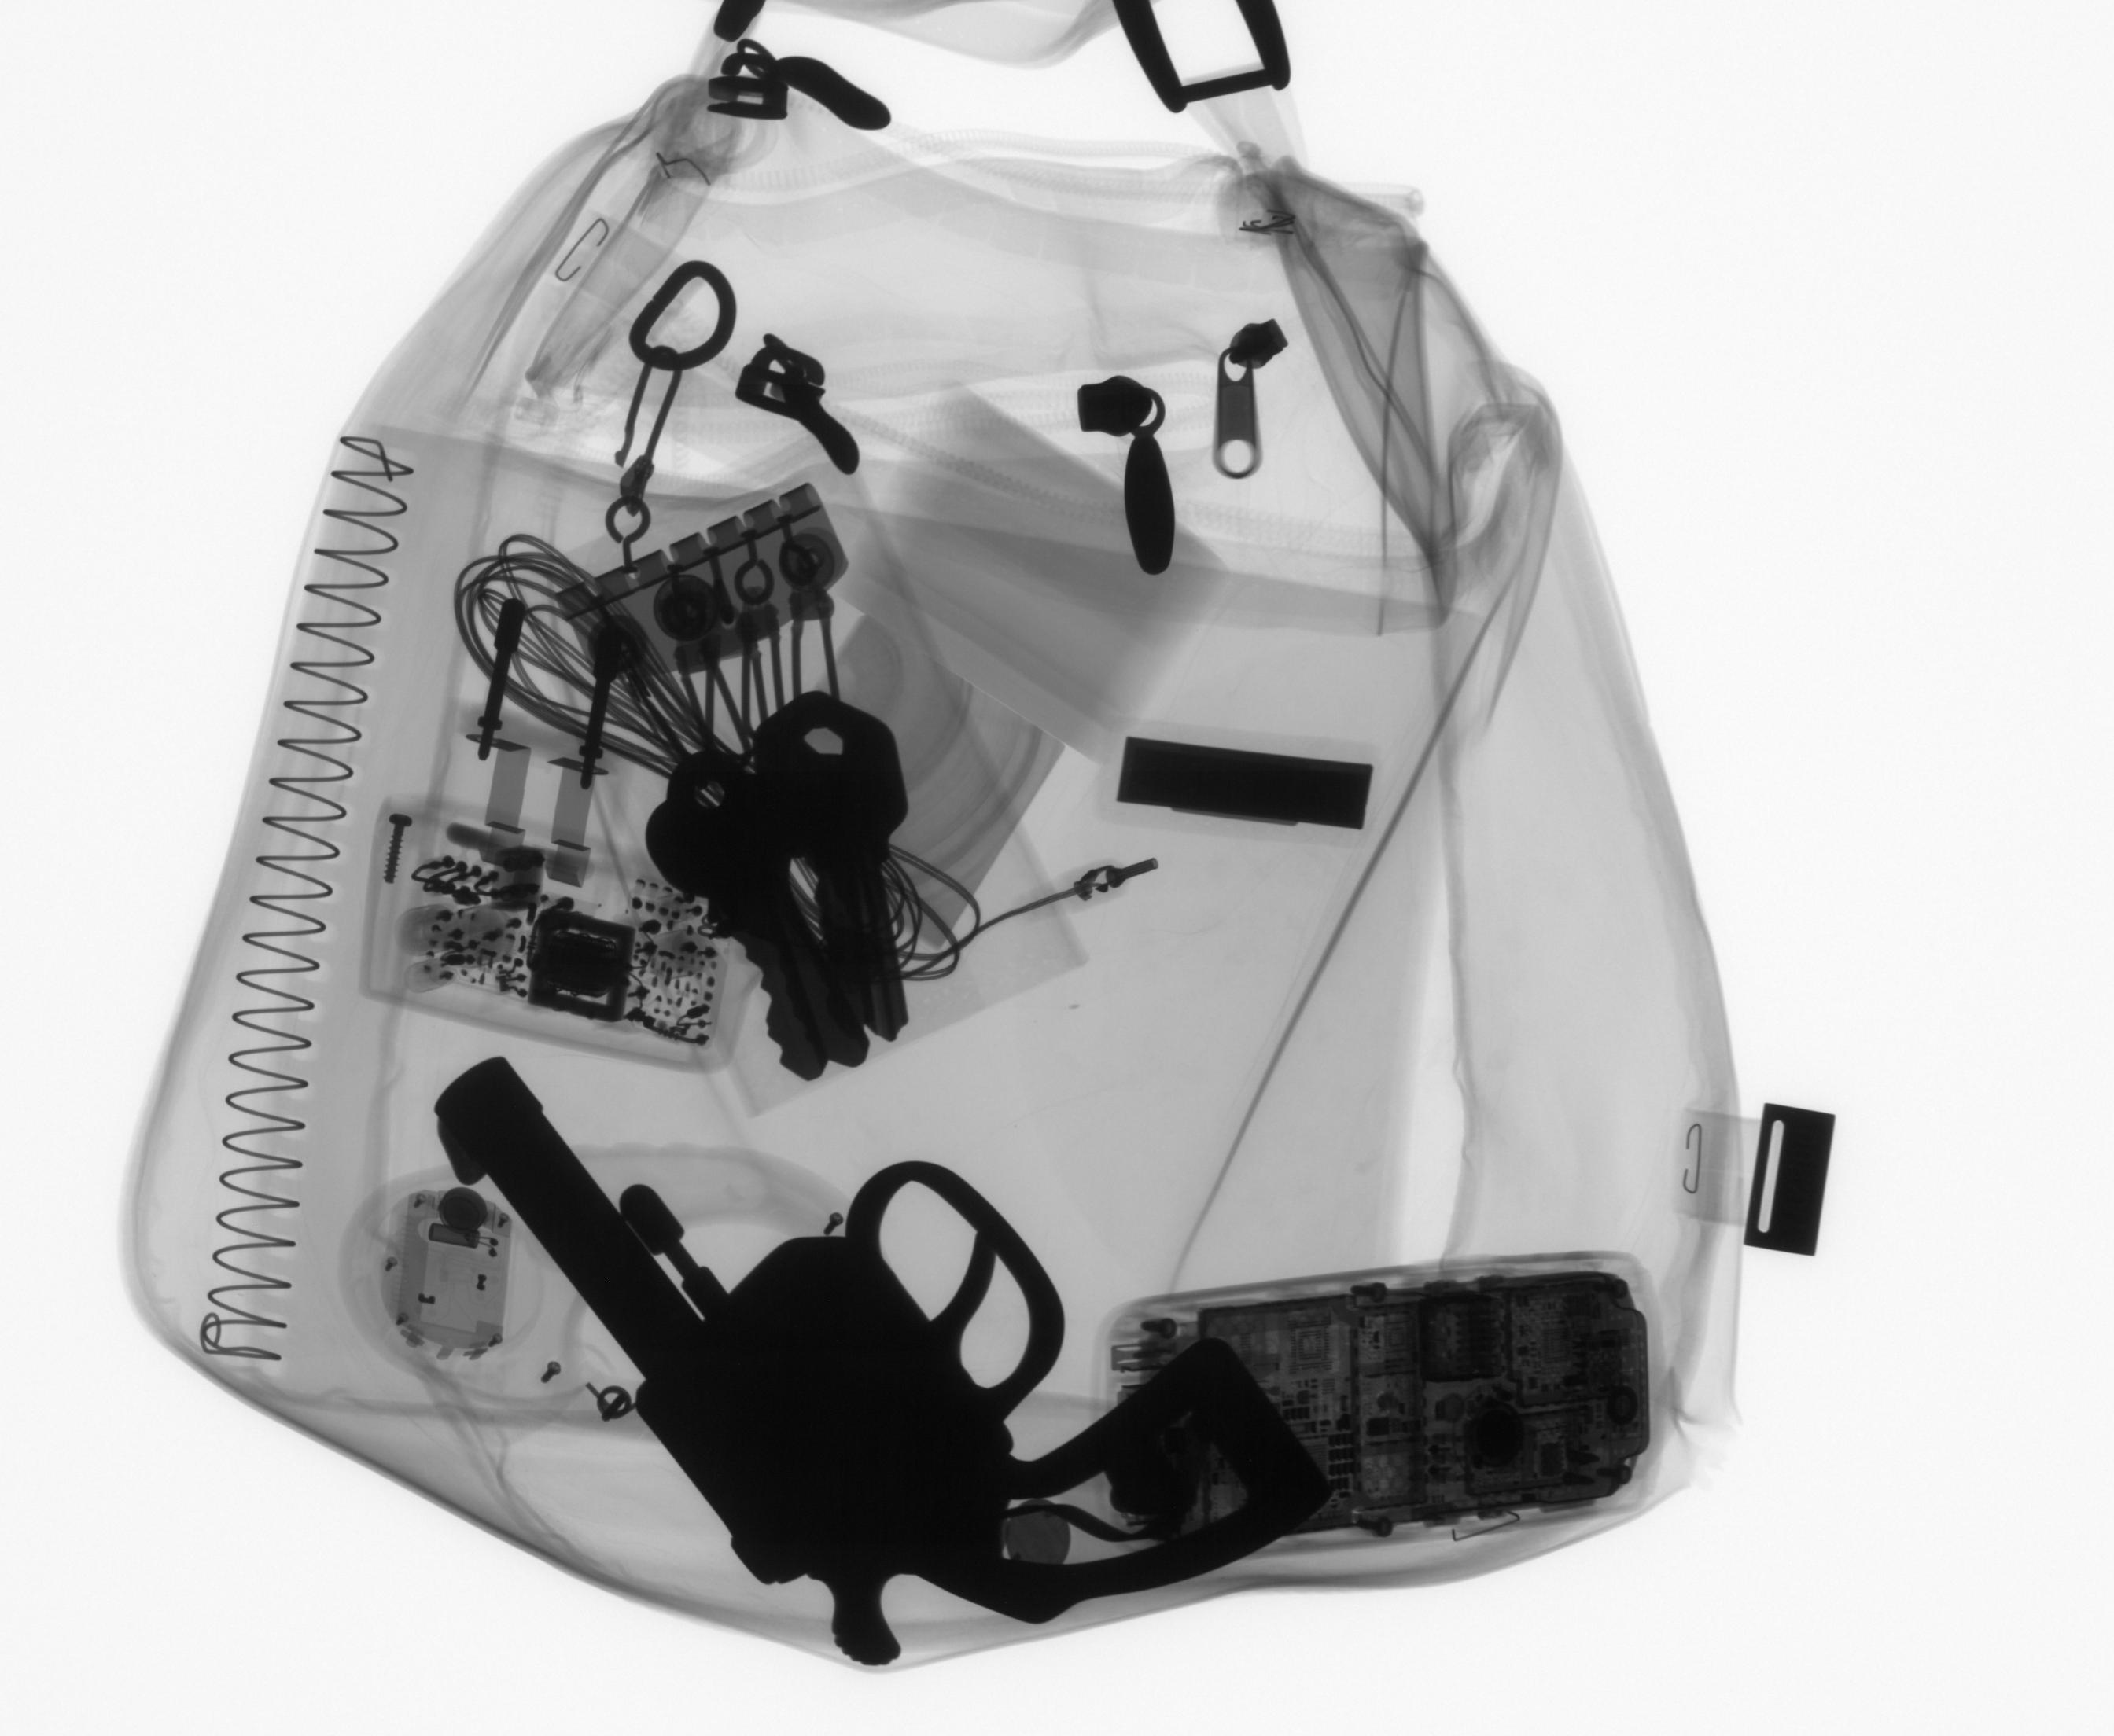Handgun: (429, 1052, 1340, 1670)
